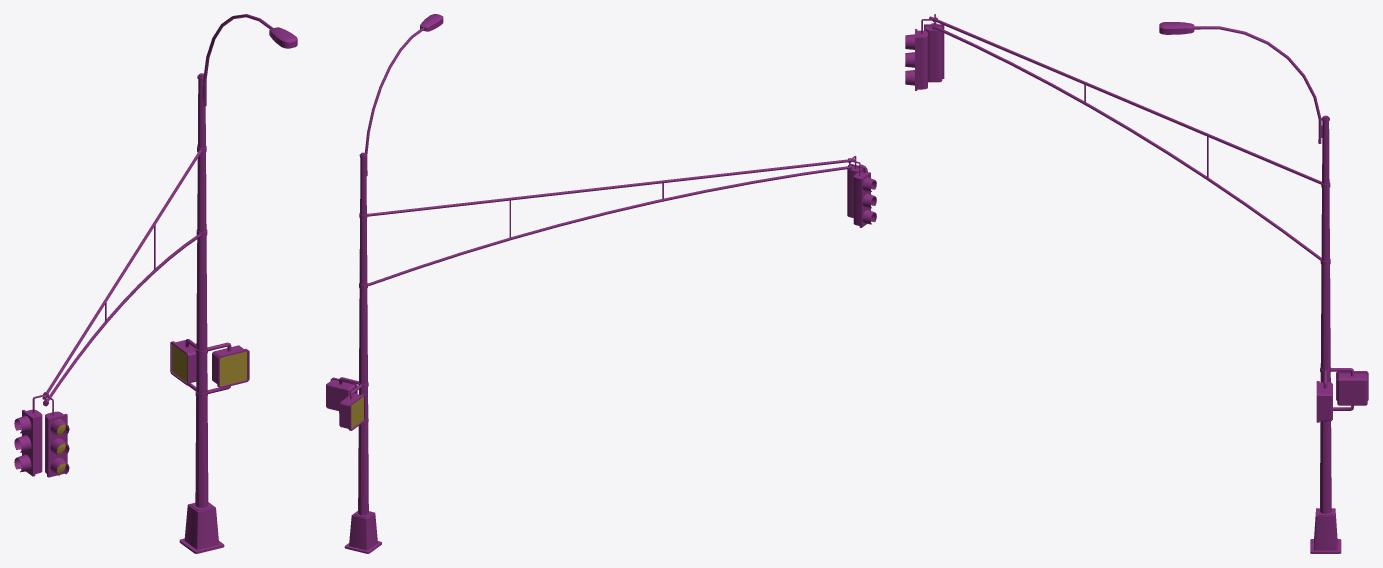
Rendered from mcp_traffic_lights_03_LOD_0.FBX.
3 renders of one model, left to right at view 1: azimuth 30°, elevation 25°; view 2: azimuth 150°, elevation 25°; view 3: azimuth 270°, elevation 25°, orthographic. The views are drawn at different scales.
Visible parts, largest first — view 1: mcp_street_light_pole_03, mcp_traffic_lights_03_lights_a; view 2: mcp_street_light_pole_03; view 3: mcp_street_light_pole_03.
Boxes of the visible parts, <box> form: mcp_street_light_pole_03: <box>14,14,297,553</box>; mcp_traffic_lights_03_lights_a: <box>172,344,247,386</box>; mcp_street_light_pole_03: <box>326,14,876,553</box>; mcp_street_light_pole_03: <box>905,14,1368,553</box>.
Bounding box in the file's own units: 973 × 1206 × 969.
